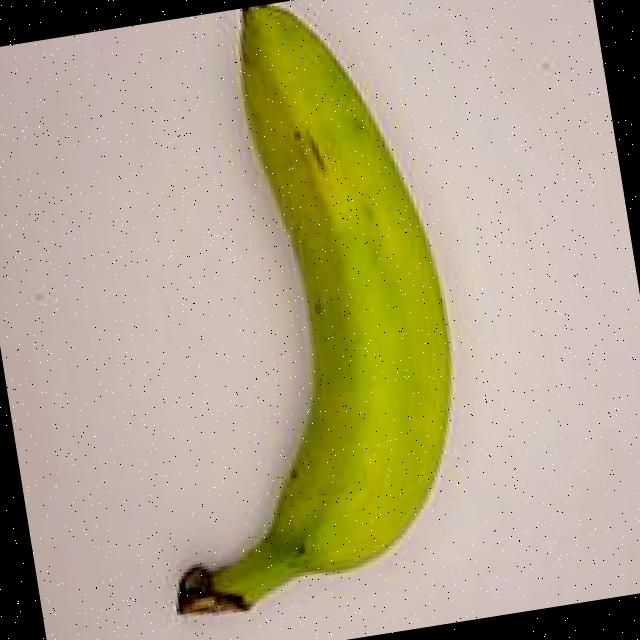Unripe: (47, 0, 549, 636)
